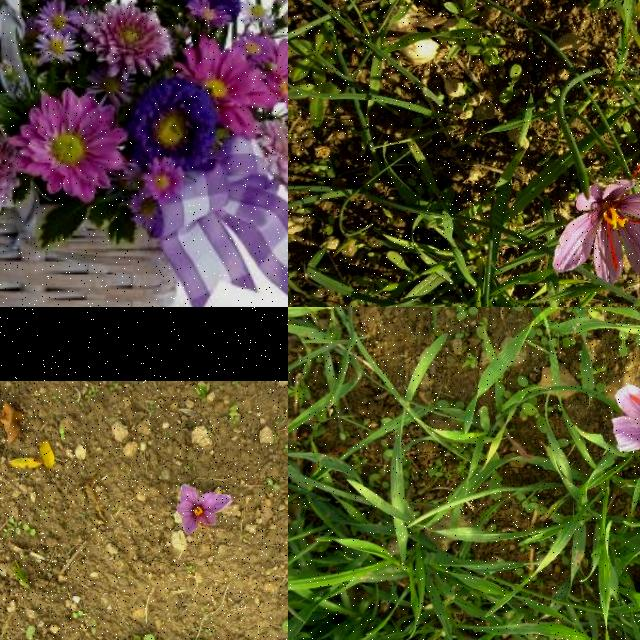flower: (553, 165, 640, 290), (175, 484, 232, 536), (611, 384, 640, 462)
